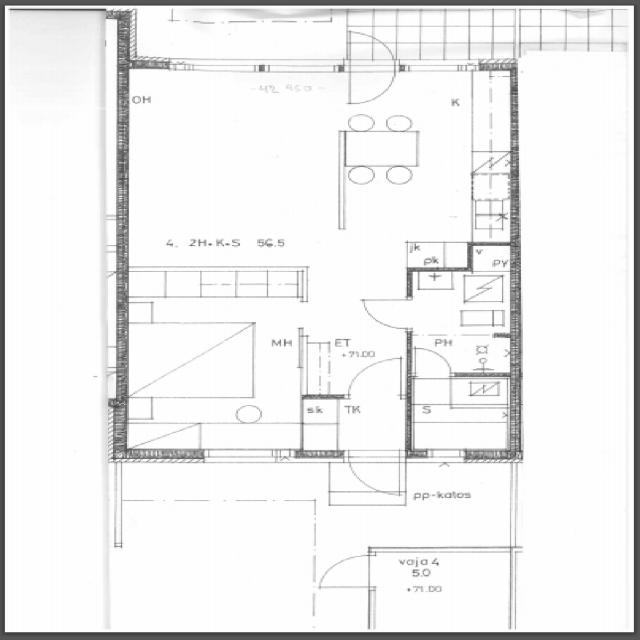door: (340, 32, 399, 106), (340, 447, 408, 500), (312, 551, 375, 597), (342, 355, 405, 400), (355, 292, 416, 334), (408, 344, 456, 379)
window: (199, 446, 296, 468), (168, 57, 267, 76), (401, 59, 481, 76), (413, 446, 473, 466)
zone: (339, 72, 514, 271), (111, 493, 317, 636), (116, 302, 273, 448), (409, 268, 516, 375), (405, 373, 518, 457)
